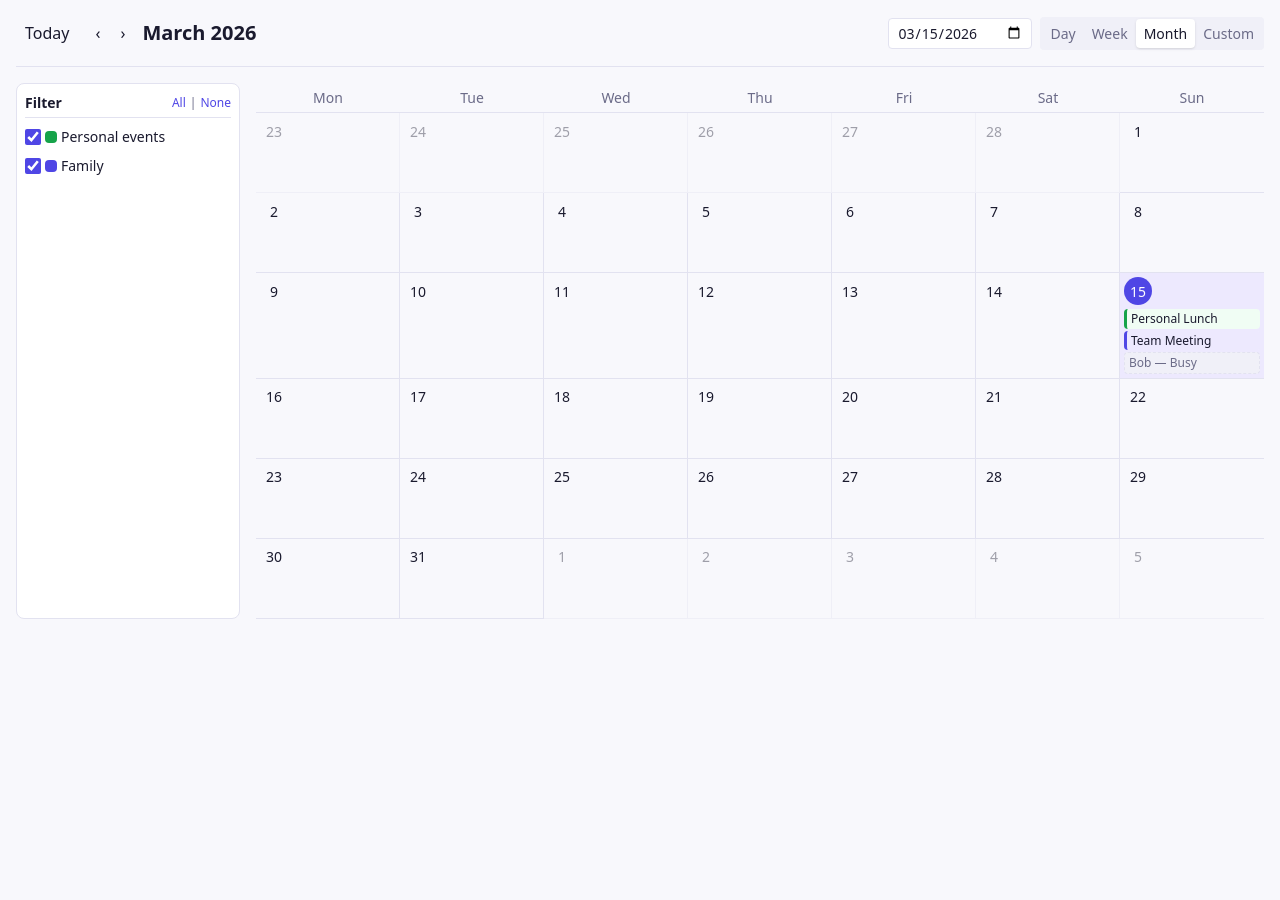
Test case: Calendar page › hides personal events when personal toggle is unchecked
Expected: the text "Personal Lunch" is shown, [1131, 310, 1218, 327]
Click the checkbox labelled "Personal events" at (33, 136), box [25, 128, 41, 144]
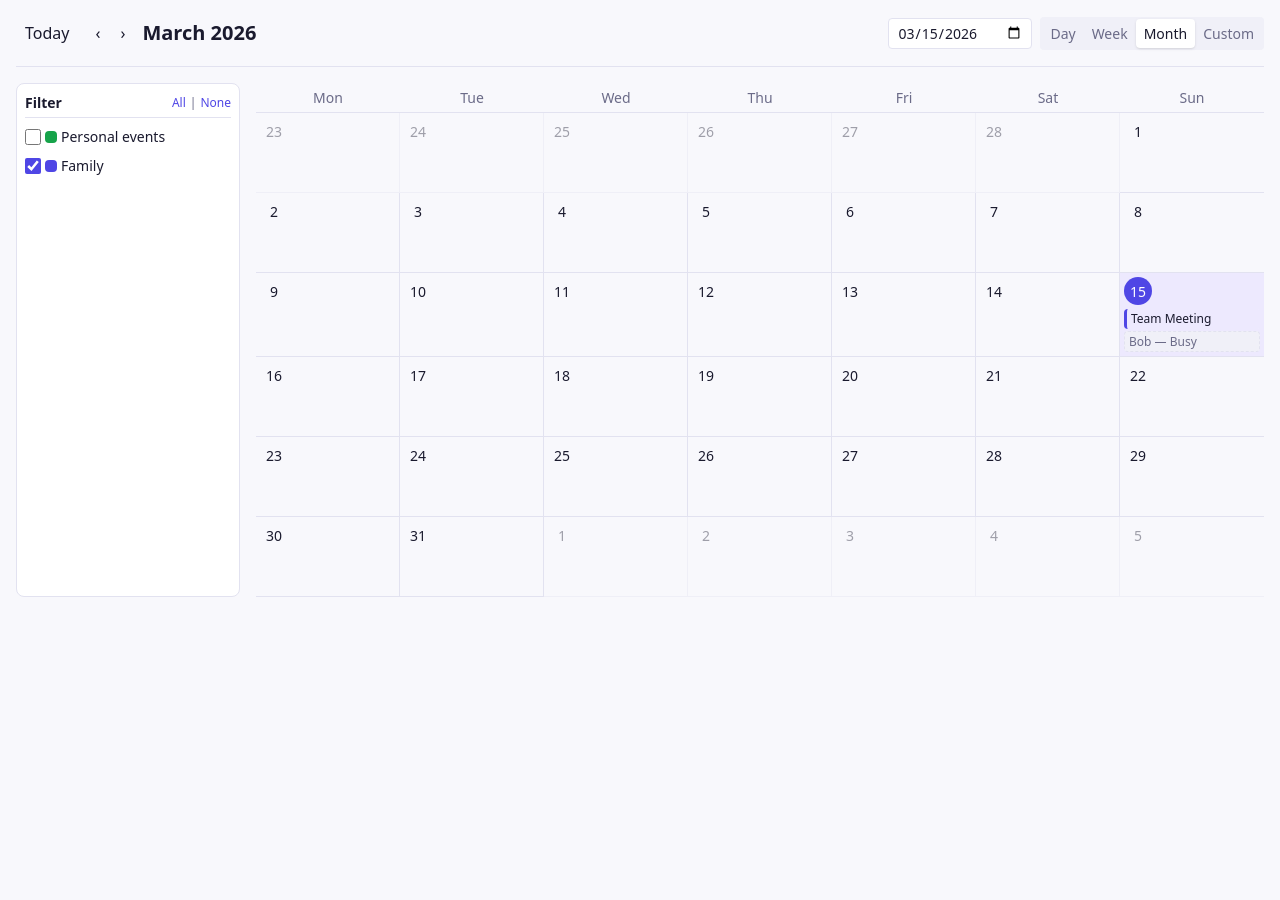
Expected: the text "Team Meeting" is shown, [1131, 310, 1211, 327]
Now the text "Personal Lunch" is gone
